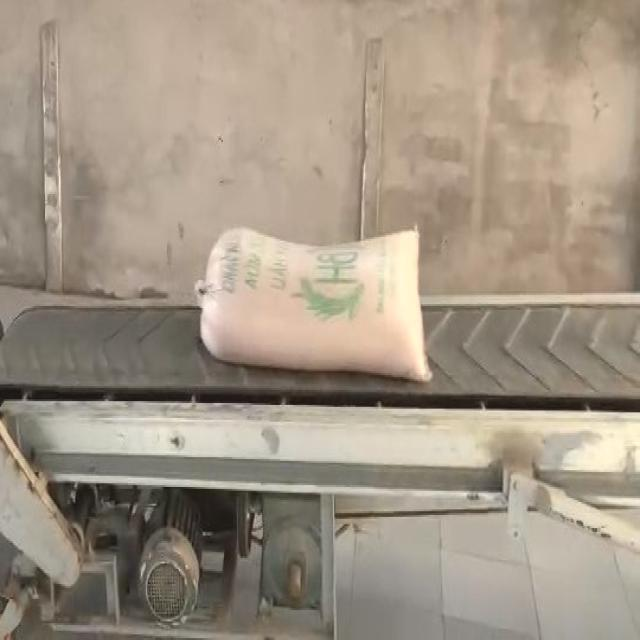gunny_bag: (200, 228, 430, 380)
